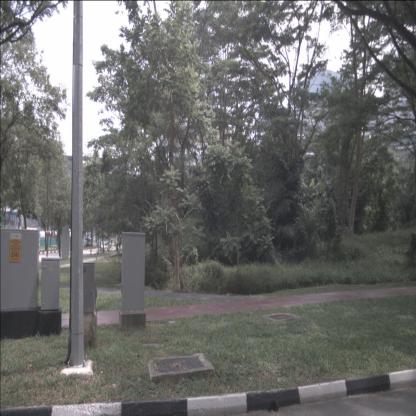vehicle-car: (100, 242, 110, 252)
vehicle-truck: (85, 238, 93, 247)
